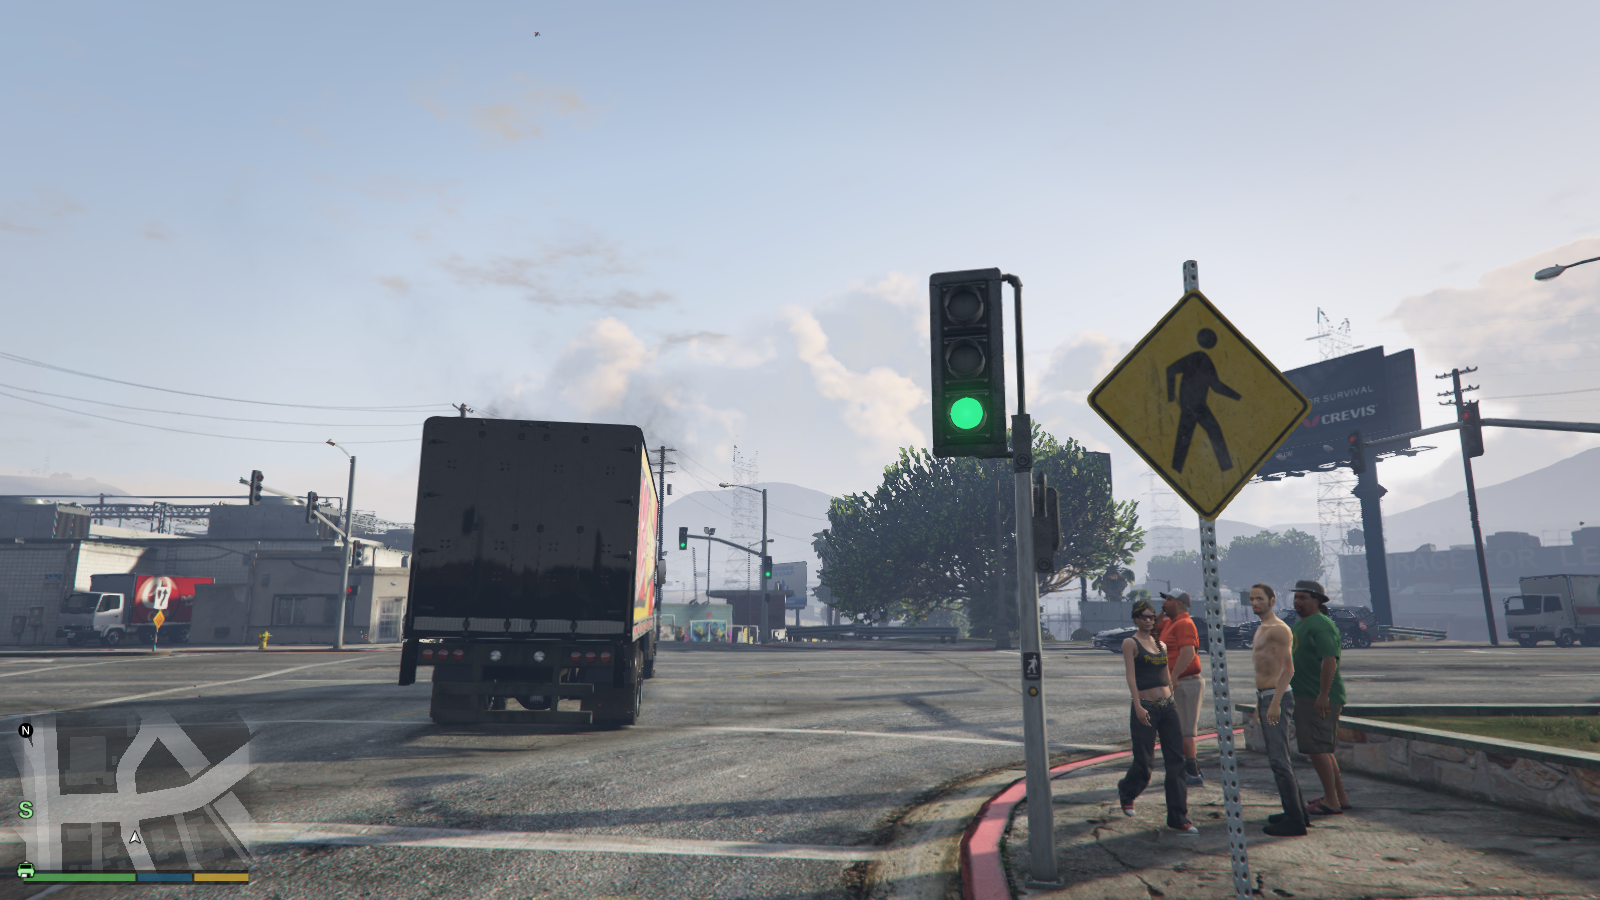green: (922, 270, 1013, 457)
